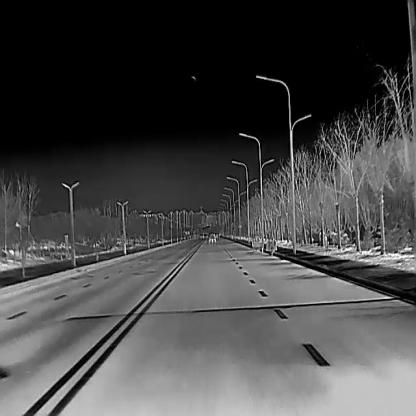car: (207, 231, 216, 242)
